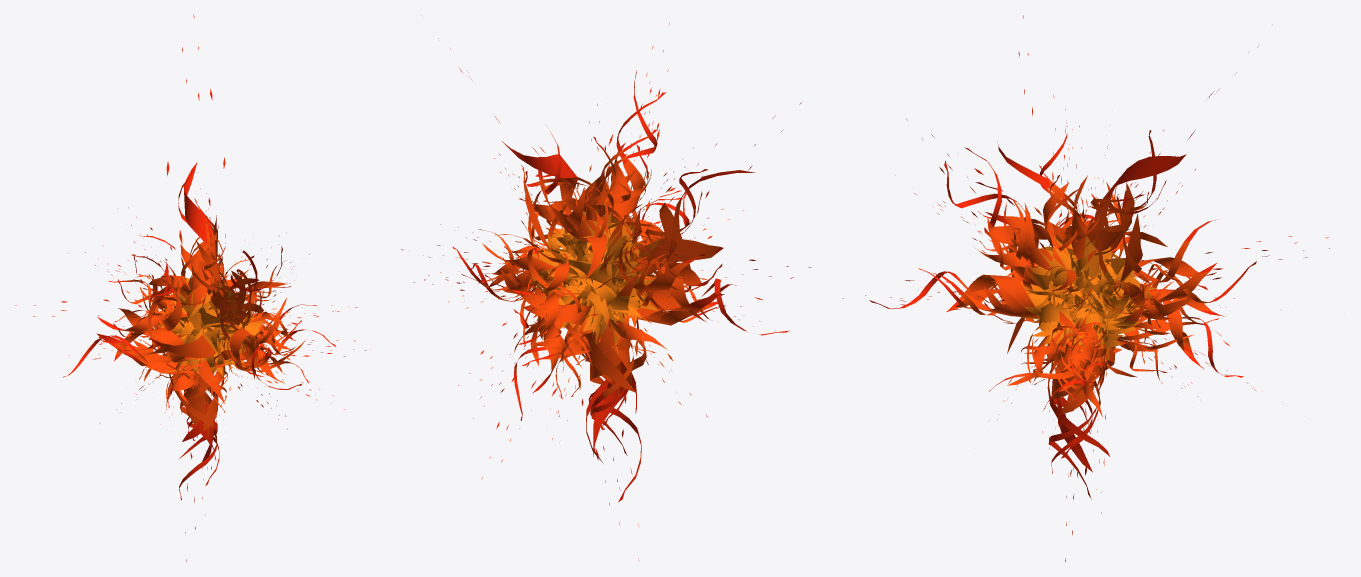
Rendered from fireball_19.obj.
The picture shows the model from 3 angles, left to right: view 1: azimuth 30°, elevation 25°; view 2: azimuth 150°, elevation 25°; view 3: azimuth 270°, elevation 25°; orthographic projection. The views are drawn at different scales.
Parts seen in each view (by area): view 1: Fireball; view 2: Fireball; view 3: Fireball.
Part boxes in pixels (<box>): Fireball: <box>15,14,370,561</box>; Fireball: <box>401,23,811,561</box>; Fireball: <box>842,15,1329,562</box>.
Bounding box in the file's own units: 1.71 × 2.28 × 1.76.
